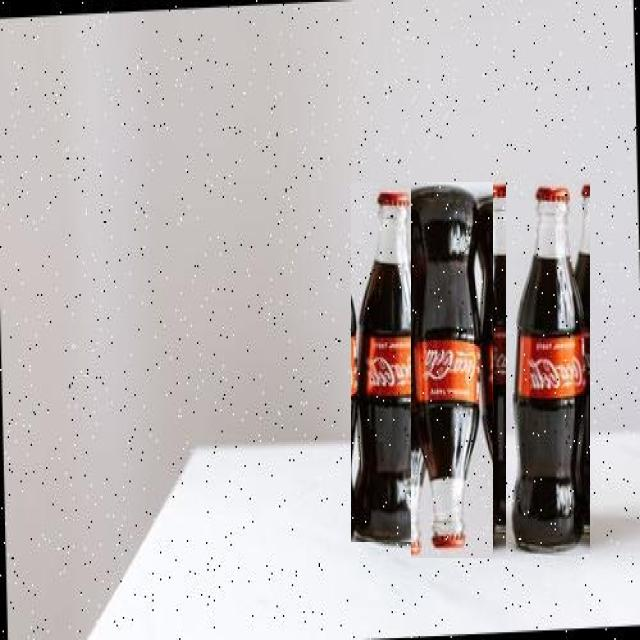coca-cola: (506, 178, 590, 554), (411, 182, 493, 558), (351, 183, 430, 542), (471, 171, 529, 540)
